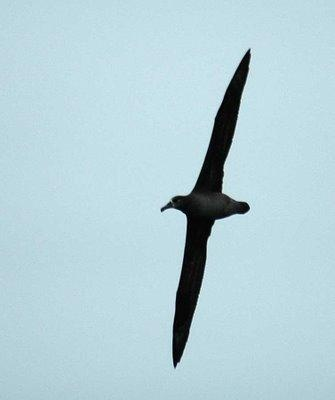bird: (150, 49, 259, 371)
